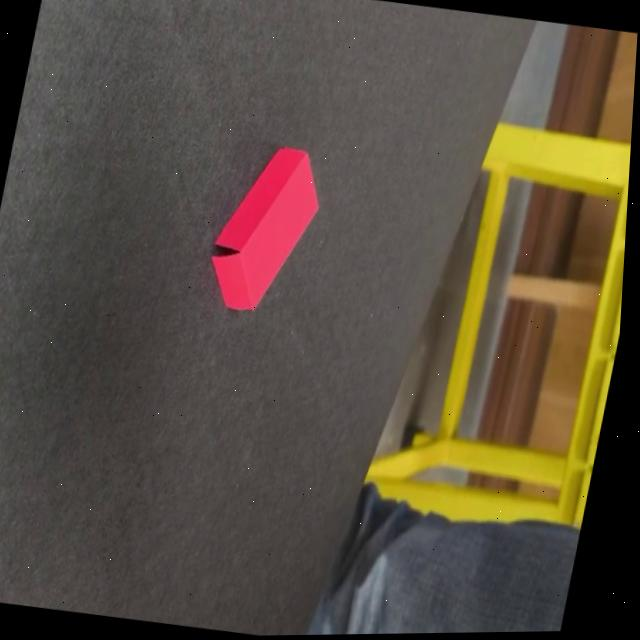red block: (199, 138, 333, 321)
